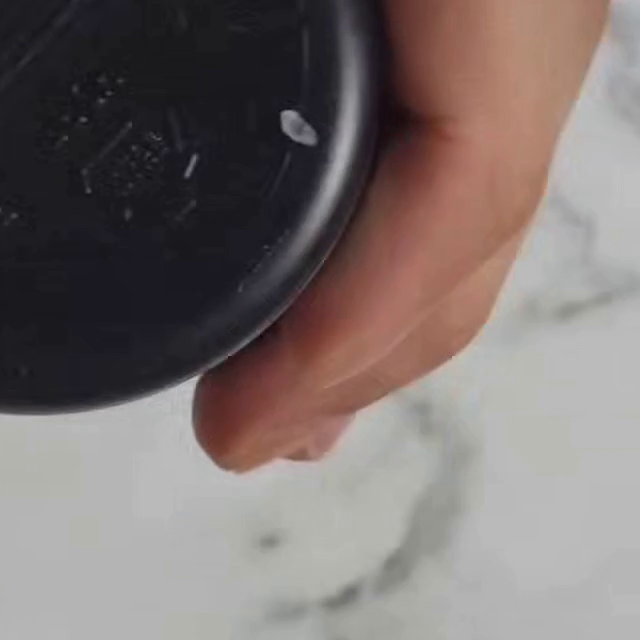Plastic: (70, 107, 200, 231)
